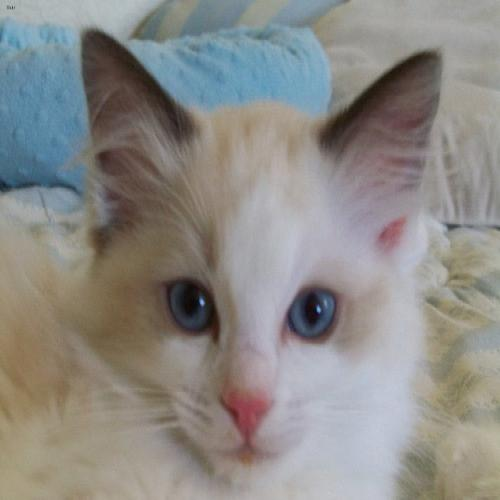ragdoll: (67, 16, 452, 491)
